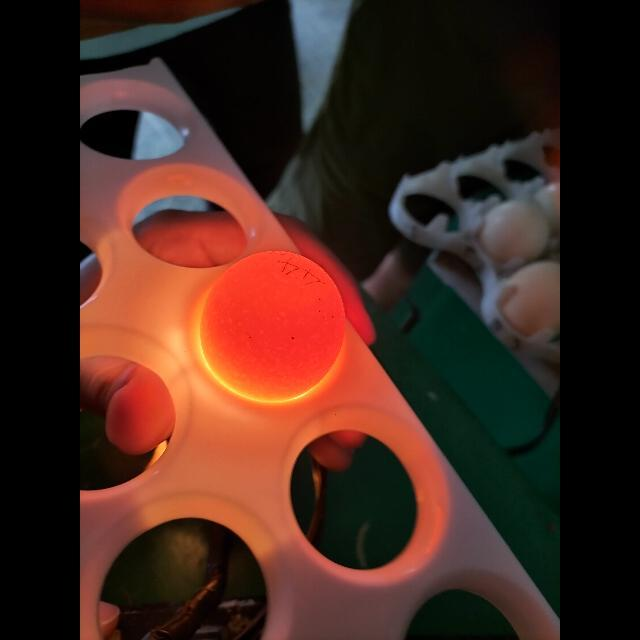Infertile: (200, 255, 346, 400)
